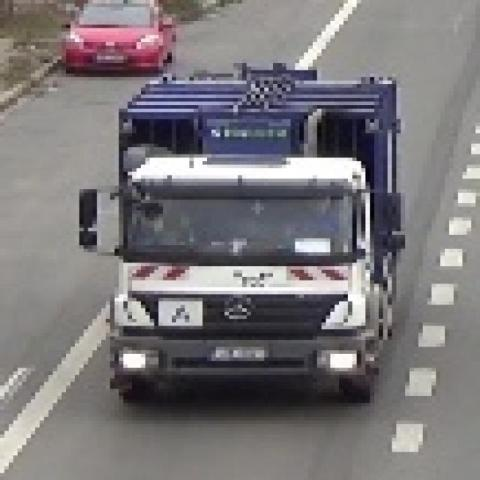truck: (84, 77, 410, 403)
